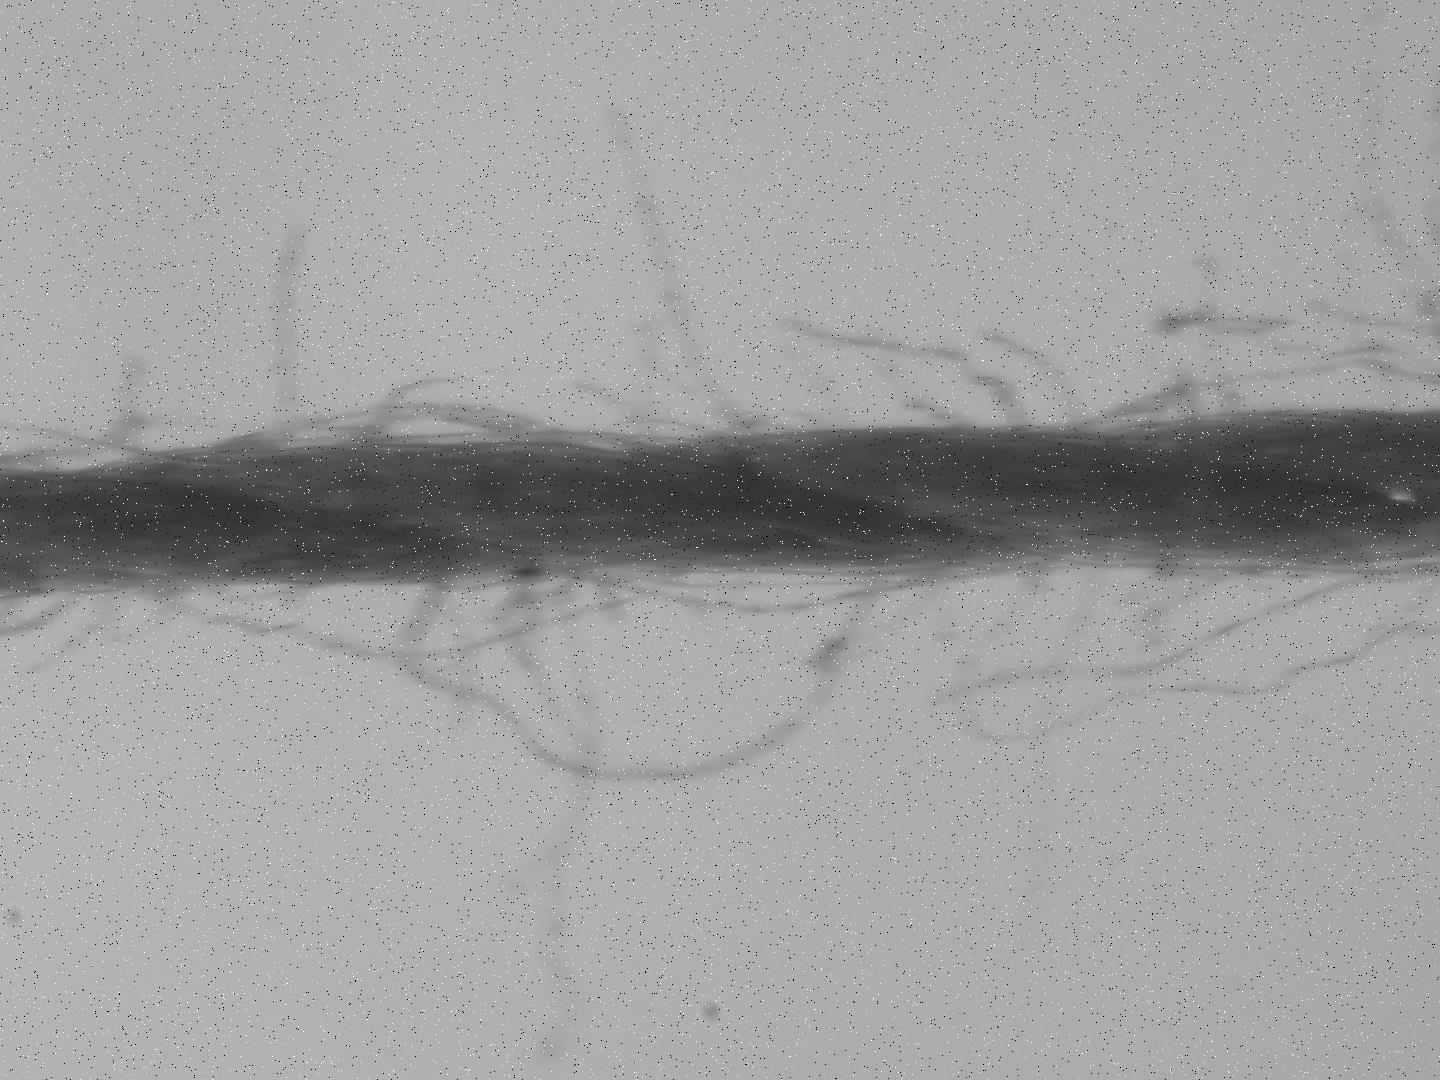loop_fiber: (380, 580, 907, 788)
